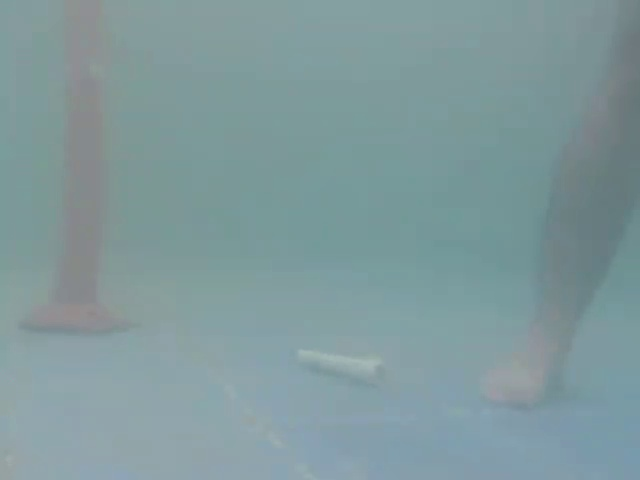flare: (5, 0, 134, 342)
